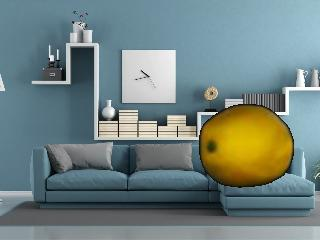lemon: (199, 104, 294, 186)
